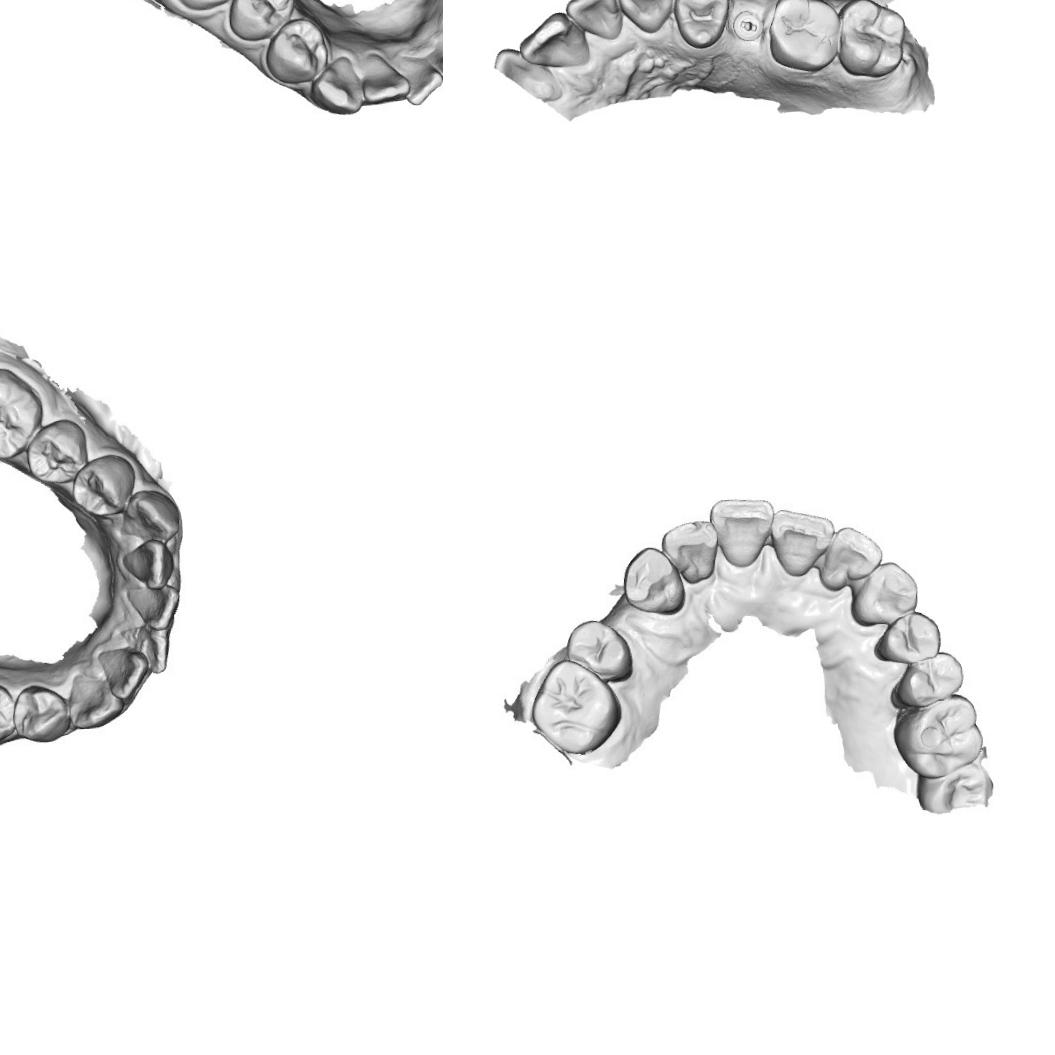canine: (614, 542, 691, 619), (850, 561, 920, 627), (125, 482, 175, 540), (314, 55, 363, 112), (68, 672, 117, 728), (614, 0, 679, 36)
implant_minus: (728, 7, 766, 43)
incisor: (515, 9, 592, 70), (656, 516, 720, 588), (772, 506, 834, 571), (712, 498, 770, 564), (95, 642, 150, 704), (123, 535, 178, 594), (824, 526, 878, 586), (124, 619, 176, 676), (358, 44, 408, 102), (126, 582, 184, 630), (562, 0, 623, 41), (401, 52, 443, 102), (433, 37, 443, 88)
molar: (525, 654, 622, 758), (892, 692, 986, 782), (832, 0, 909, 80), (764, 0, 845, 75), (0, 371, 38, 456)
premolar: (559, 616, 635, 686), (888, 652, 964, 712), (871, 612, 944, 666), (27, 418, 85, 484), (73, 456, 132, 518), (267, 18, 324, 80), (10, 679, 64, 738), (670, 0, 731, 48), (227, 0, 291, 40), (0, 677, 16, 740)
